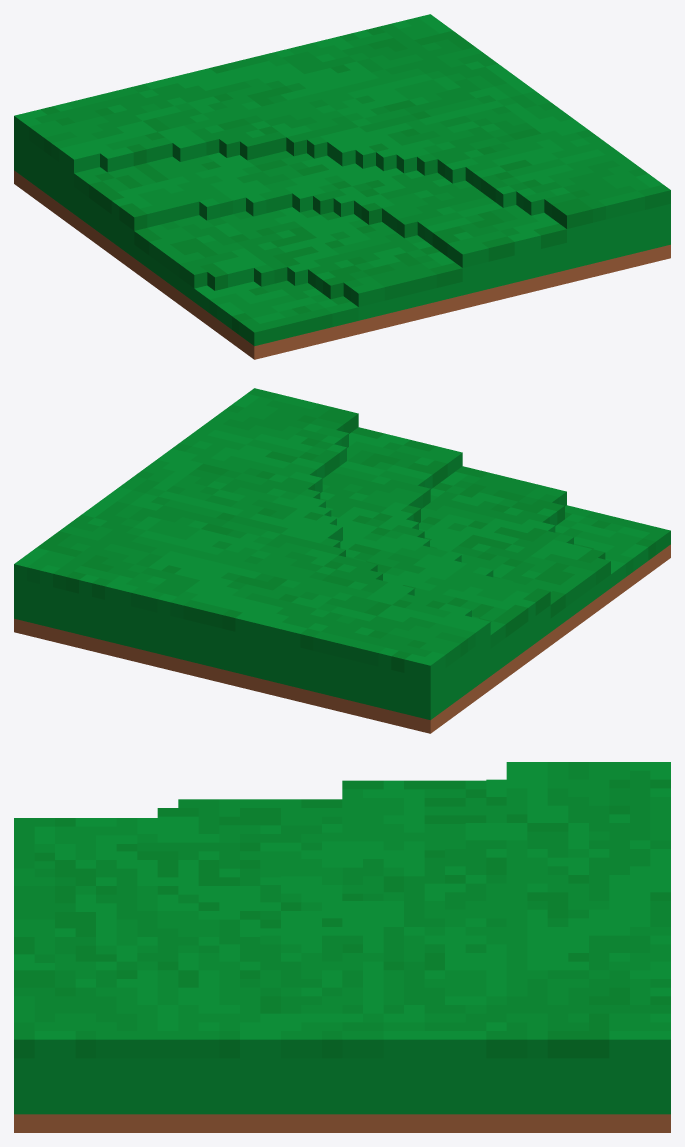
Rendered from forest-uneven-edge-inner-4.gltf.
3 renders of one model, top to bottom at view 1: azimuth 30°, elevation 25°; view 2: azimuth 150°, elevation 25°; view 3: azimuth 270°, elevation 25°, orthographic. The views are drawn at different scales.
Visible parts, largest first — view 1: forest-uneven-edge-inner-4_model; view 2: forest-uneven-edge-inner-4_model; view 3: forest-uneven-edge-inner-4_model.
Part boxes in pixels (x1,y1,x2,y2): forest-uneven-edge-inner-4_model: (14,14,670,359); forest-uneven-edge-inner-4_model: (14,388,670,733); forest-uneven-edge-inner-4_model: (14,762,670,1132).
Size of the model in its own units: 3.2 by 0.5 by 3.2.
1 material, 1 textured.
